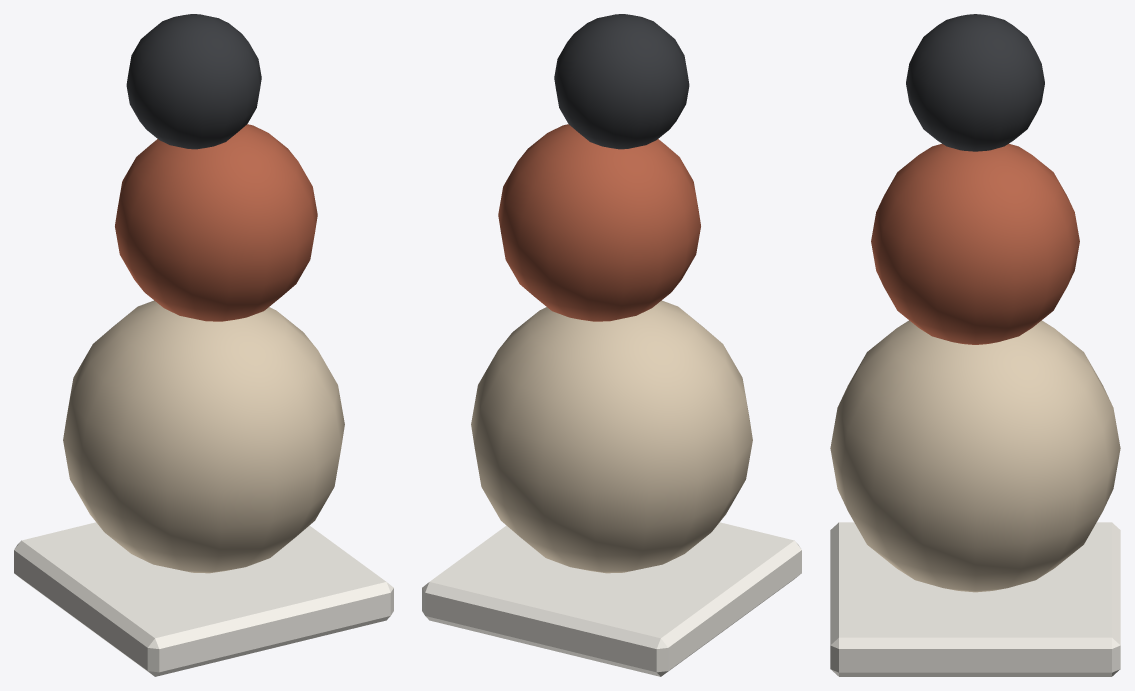
File: i_figure_1.glb
The picture shows the model from 3 angles, left to right: view 1: azimuth 30°, elevation 25°; view 2: azimuth 150°, elevation 25°; view 3: azimuth 270°, elevation 25°; orthographic projection. The views are drawn at different scales.
Visible parts, largest first — view 1: o.001, o, o.002, o.003; view 2: o.001, o, o.002, o.003; view 3: o.001, o.002, o, o.003.
Boxes of the visible parts, x1,y1,x2,y2 form: o.001: [63, 300, 344, 573]; o: [14, 522, 393, 676]; o.002: [115, 124, 317, 321]; o.003: [126, 14, 261, 149]; o.001: [471, 300, 752, 573]; o: [422, 522, 801, 676]; o.002: [498, 124, 700, 321]; o.003: [554, 14, 689, 149]; o.001: [830, 320, 1120, 592]; o.002: [871, 144, 1079, 344]; o: [830, 522, 1120, 676]; o.003: [906, 14, 1044, 151].
Size of the model in its own units: 0.1 by 0.226 by 0.1.
